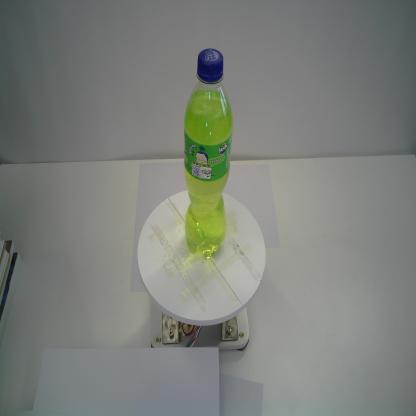Drink: (184, 46, 234, 260)
